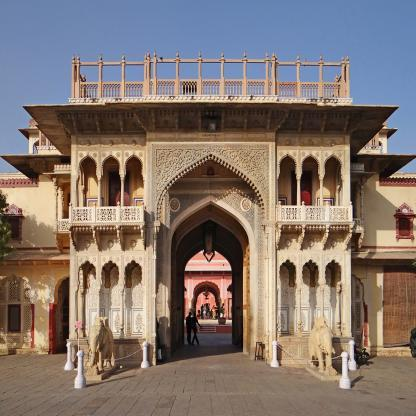Balcony: (72, 81, 349, 97), (69, 206, 143, 222), (279, 205, 353, 220)
Building Outline: (0, 51, 416, 367)
Dont: (270, 317, 357, 389), (65, 317, 150, 388)
Door: (171, 201, 251, 357), (292, 170, 313, 220), (109, 172, 130, 222)
Door Hole: (156, 160, 265, 364), (323, 156, 343, 220), (300, 156, 320, 220), (124, 158, 144, 221), (78, 158, 98, 221), (101, 158, 121, 221), (278, 156, 297, 220)
Facade: (71, 97, 350, 365)
Floor: (71, 103, 350, 222)
Floor Slab: (70, 98, 353, 103), (275, 223, 352, 228), (69, 223, 146, 228)
Ground Floor: (71, 228, 350, 365)
Molding: (55, 110, 365, 142), (274, 221, 355, 251), (67, 221, 147, 251)
